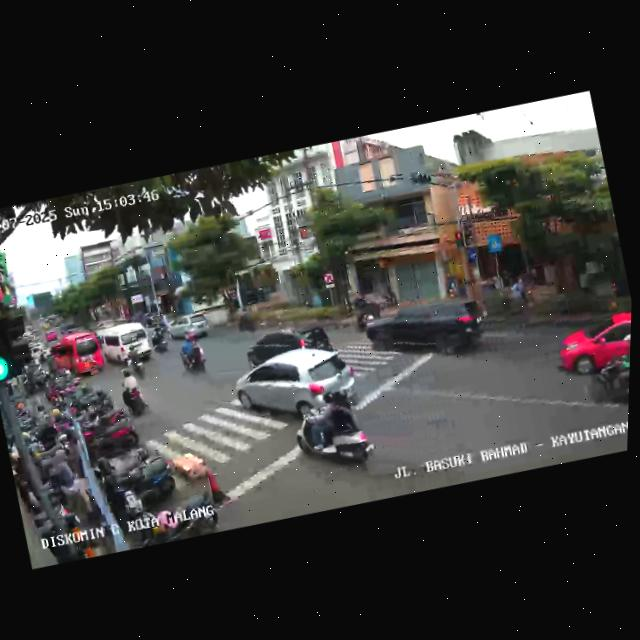car: (229, 335, 365, 432), (364, 286, 492, 375), (549, 307, 631, 394), (243, 317, 335, 371), (44, 328, 107, 386), (96, 317, 156, 373), (166, 309, 213, 345)
motorcycle: (289, 379, 381, 480), (583, 328, 631, 420), (115, 367, 150, 420), (175, 332, 208, 374), (124, 342, 148, 378), (233, 303, 258, 337), (149, 323, 172, 355)
